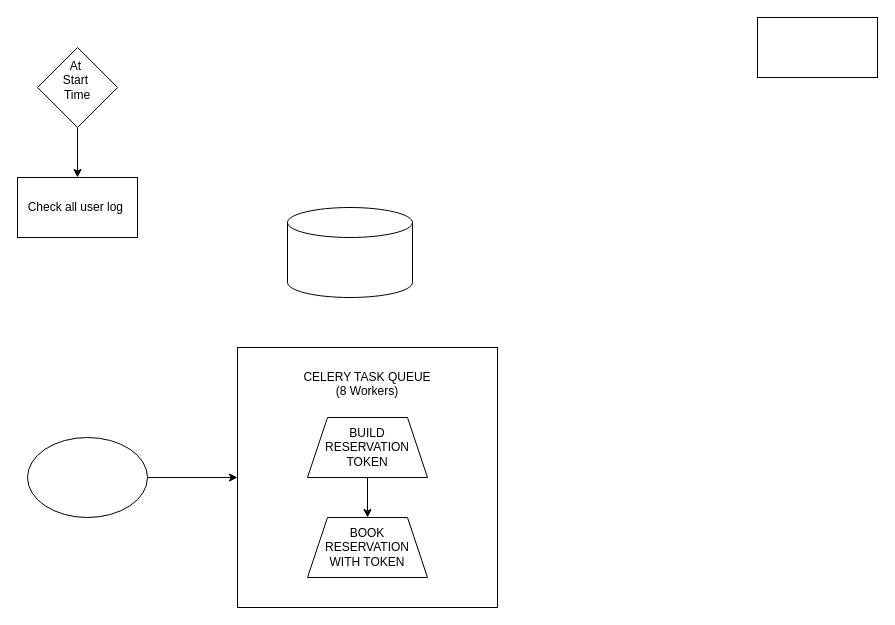
Image size: 895x625. Some labels were removed from this diagram. The box of each missing label's shape, as (x1, y1, x2, y2) in pixels:
get 3 random users: (756, 16, 878, 78)
OYSTER (internal DB): (286, 206, 412, 298)
TASK QUEUE (Celery): (26, 436, 148, 518)
